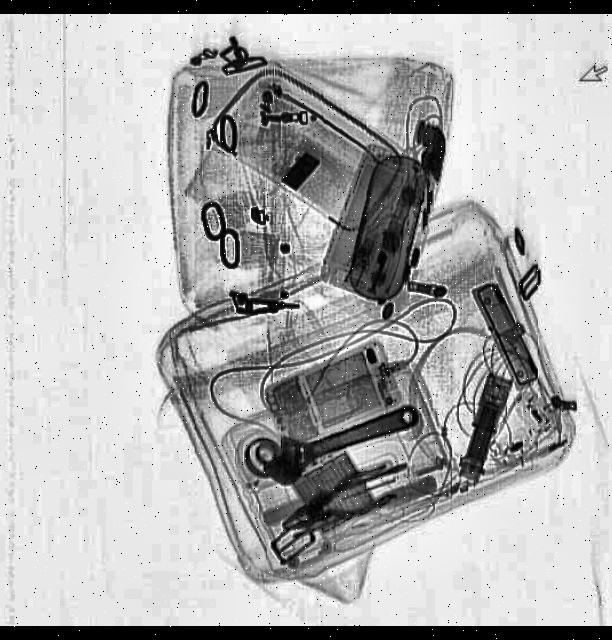Pliers: (273, 464, 398, 548)
Wrench: (252, 389, 424, 495)
